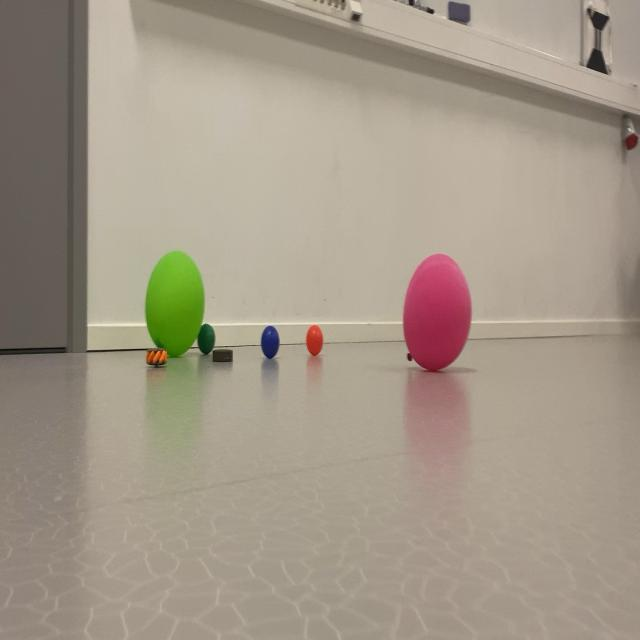7: (297, 296, 345, 409)
green ball: (252, 314, 286, 395)
red ball: (197, 311, 220, 364)
